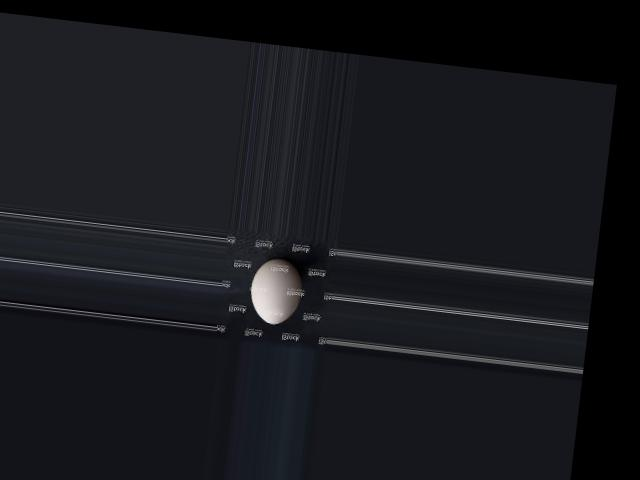egg: (248, 255, 305, 326)
